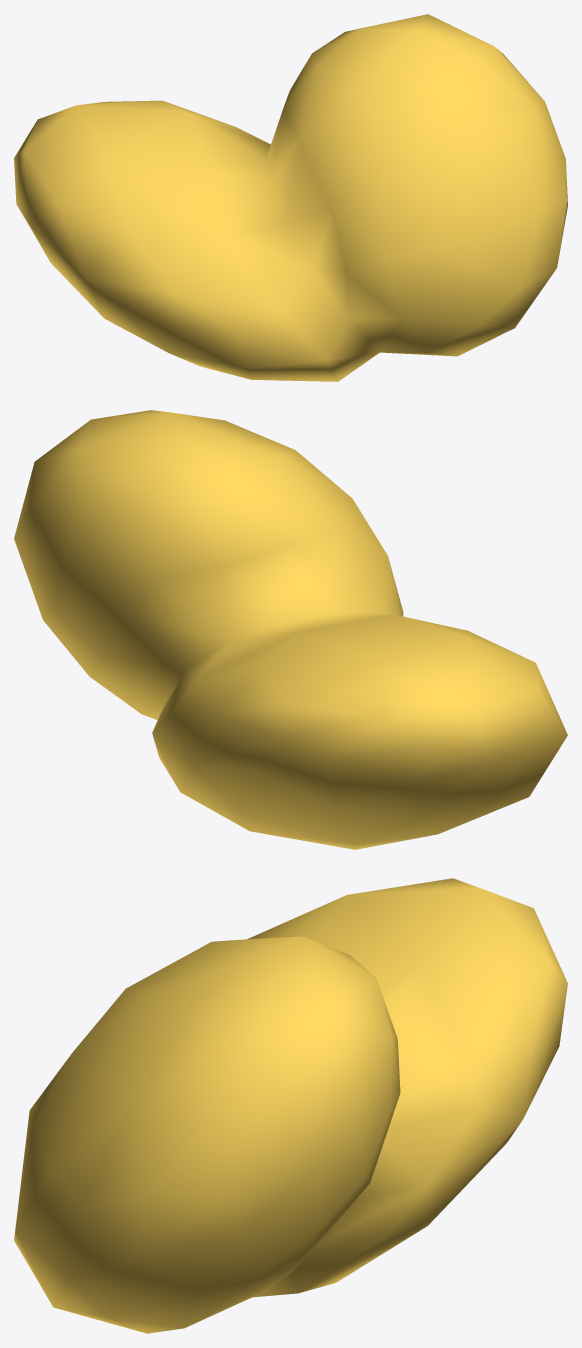
The model's file is fitted.glb.
The picture shows the model from 3 angles, top to bottom: view 1: azimuth 30°, elevation 25°; view 2: azimuth 150°, elevation 25°; view 3: azimuth 270°, elevation 25°; orthographic projection. The views are drawn at different scales.
Bounding box in the file's own units: 1.74 × 1 × 1.35.
1 material, 1 textured.
